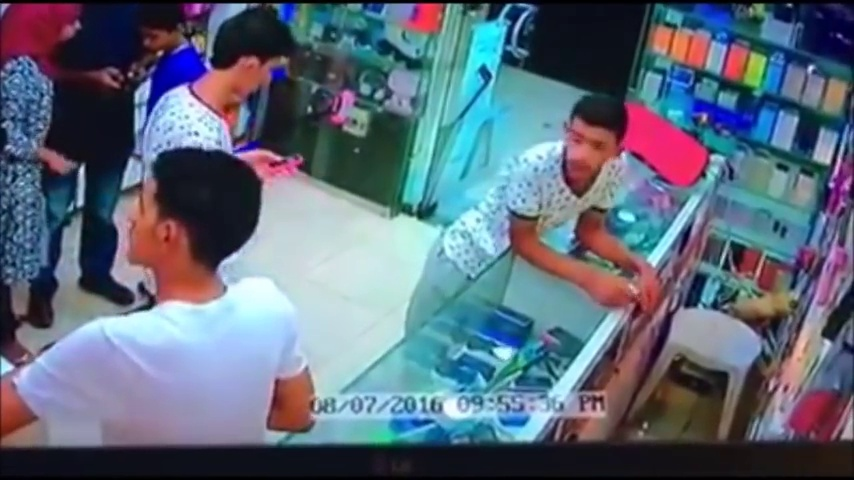face: (130, 163, 180, 269), (229, 49, 291, 103), (565, 125, 609, 179), (138, 12, 178, 61)
